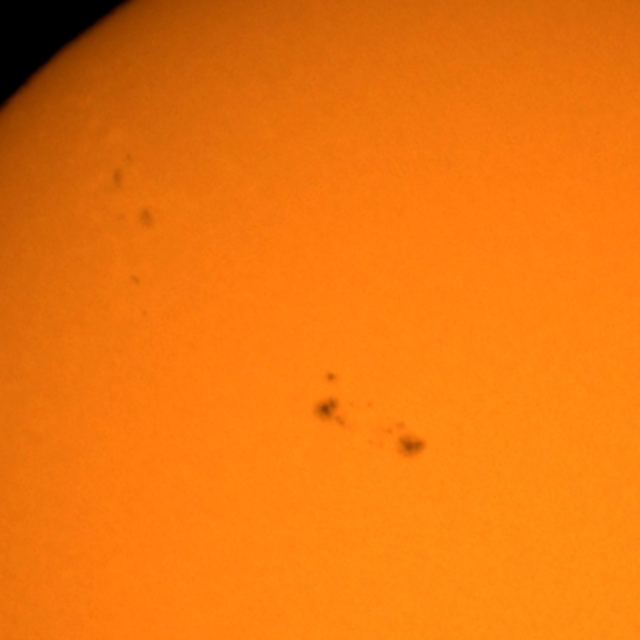sunspot: (382, 418, 429, 461), (311, 395, 353, 430), (136, 206, 156, 232), (128, 272, 144, 290), (322, 370, 340, 385)
